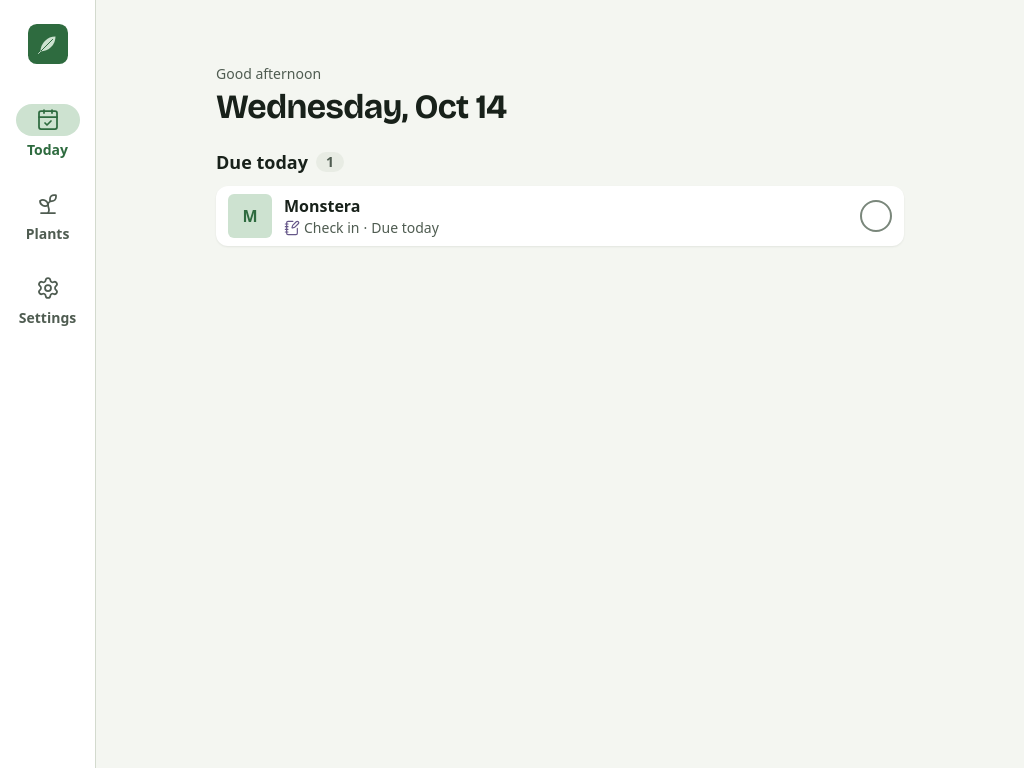
Scenario: Check in › explains a size it can't read
Click the button named "Check in on Monstera": (876, 216) [852,192,900,240]
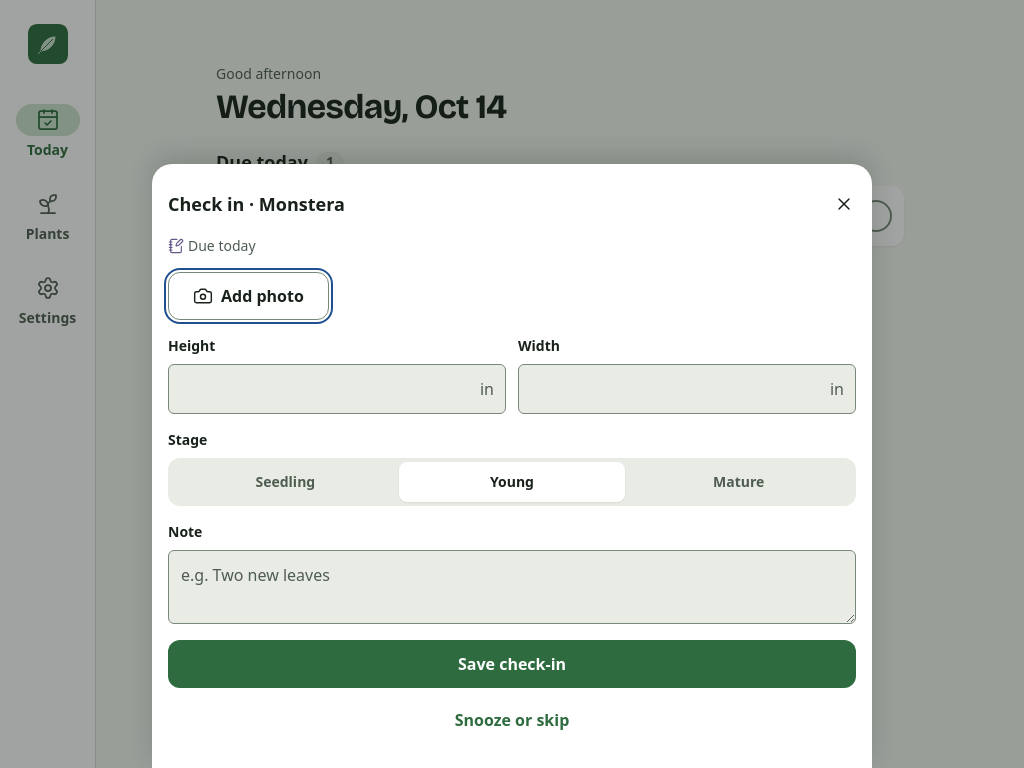
In the field labelled "Height": (337, 389) [168,364,506,414], type "tall"
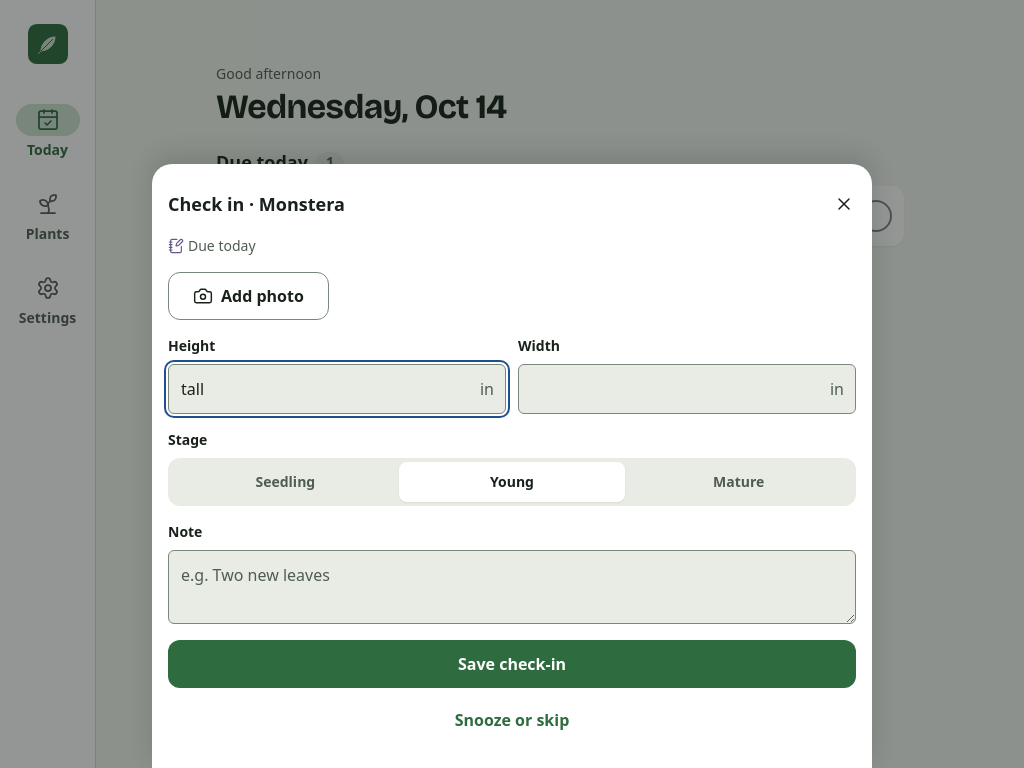
Click the button "Save check-in": (512, 664) [168,640,856,688]
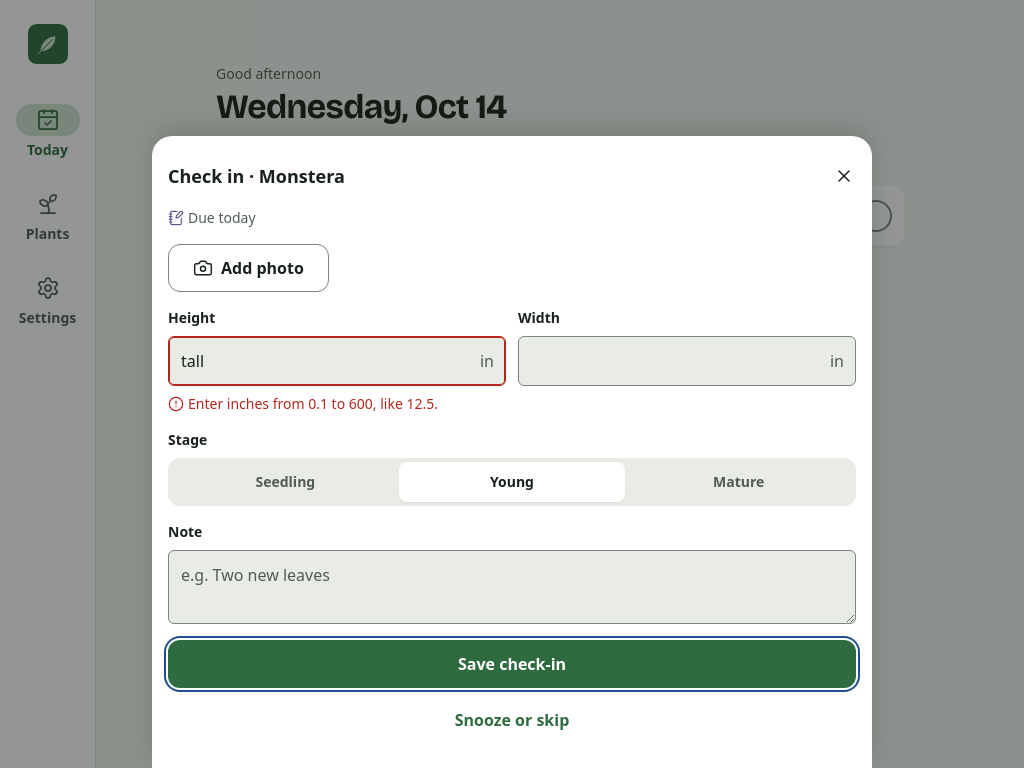
expect the text "Enter inches from 0.1 to 600, like 12.5." is shown: met, box [168,394,438,413]
